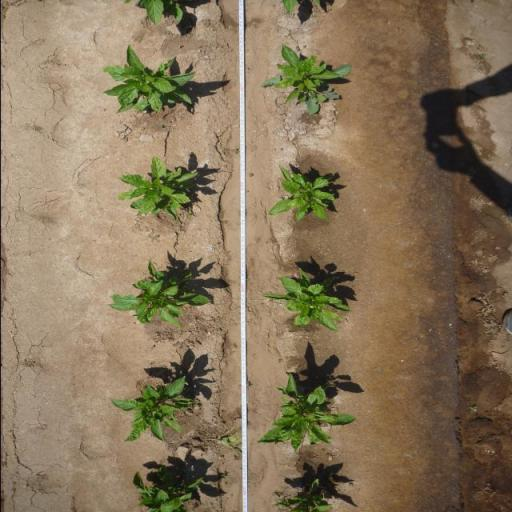plant: (254, 371, 358, 454), (100, 257, 214, 331), (258, 264, 356, 334), (98, 48, 197, 117), (106, 376, 196, 445), (113, 155, 198, 222), (264, 164, 338, 226), (275, 45, 335, 103), (131, 466, 200, 512), (272, 475, 332, 512)
weed: (209, 418, 242, 460), (146, 234, 161, 243), (468, 406, 477, 412), (232, 148, 239, 155), (219, 473, 227, 479), (246, 381, 252, 389), (248, 172, 254, 178), (172, 242, 178, 247), (187, 211, 192, 216), (176, 44, 182, 48), (156, 125, 164, 128), (277, 360, 280, 364)
